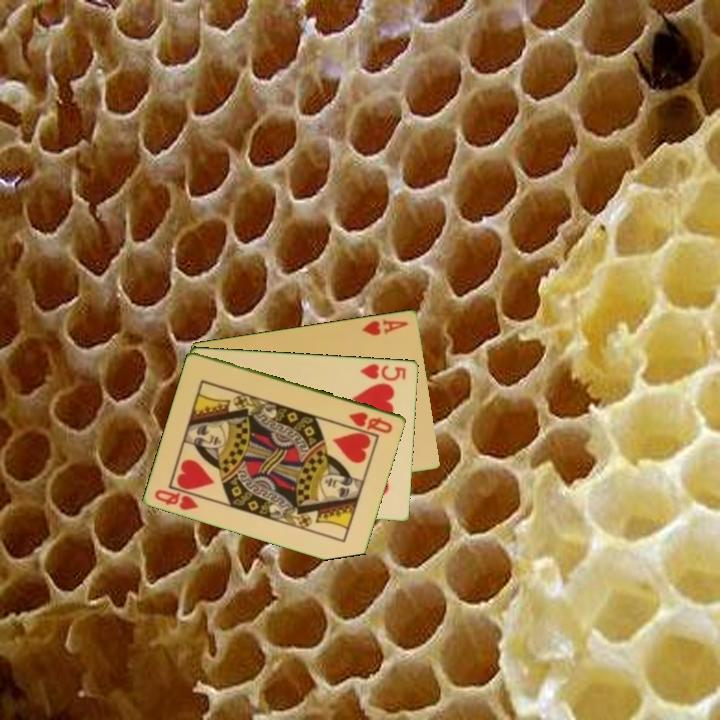5h: (357, 360, 409, 384)
Ah: (358, 315, 411, 338)
Qh: (346, 408, 396, 436), (151, 486, 202, 513)
